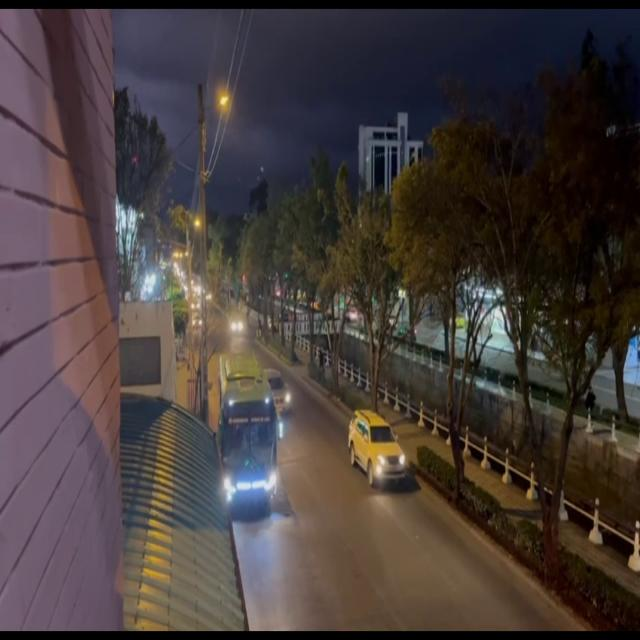BUS: (219, 354, 277, 514)
